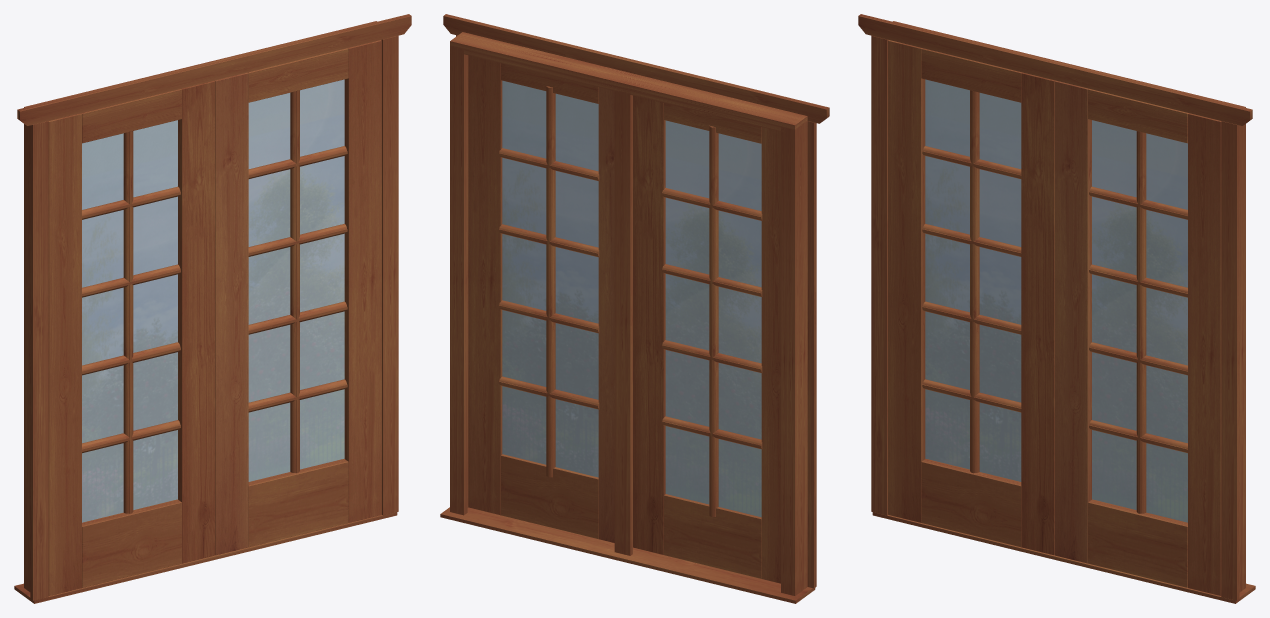
The picture shows the model from 3 angles, left to right: view 1: azimuth 30°, elevation 25°; view 2: azimuth 150°, elevation 25°; view 3: azimuth 330°, elevation 25°; orthographic projection. The views are drawn at different scales.
Parts seen in each view (by area): view 1: glass001, glass, door_right, door_right001, door_left, door_left001, trim_left, trim_right, trim_top, door_bottom001, door_bottom, muttin001 (+14 smaller); view 2: glass001, glass, door_right001, door_right, box_left, door_left, astragal, door_left001, box_top, door_bottom001, door_bottom, threshold (+18 smaller); view 3: glass, glass001, door_left001, door_left, door_right, door_right001, trim_right, trim_left, trim_top, door_bottom, door_bottom001, muttin009 (+14 smaller).
Boxes of the visible parts, x1=… form: glass001: x1=248, y1=79, x2=344, y2=481; glass: x1=82, y1=120, x2=177, y2=522; door_right: x1=178, y1=80, x2=215, y2=563; door_right001: x1=344, y1=40, x2=381, y2=522; door_left: x1=48, y1=113, x2=81, y2=595; door_left001: x1=215, y1=72, x2=248, y2=555; trim_left: x1=30, y1=121, x2=48, y2=600; trim_right: x1=381, y1=35, x2=398, y2=515; trim_top: x1=17, y1=14, x2=411, y2=125; door_bottom001: x1=248, y1=459, x2=348, y2=547; door_bottom: x1=82, y1=499, x2=181, y2=587; muttin001: x1=123, y1=131, x2=133, y2=513; glass001: x1=502, y1=80, x2=598, y2=477; glass: x1=665, y1=120, x2=761, y2=517; door_right001: x1=468, y1=55, x2=502, y2=515; door_right: x1=633, y1=95, x2=665, y2=554; box_left: x1=785, y1=121, x2=807, y2=595; door_left: x1=761, y1=127, x2=780, y2=583; astragal: x1=614, y1=90, x2=632, y2=555; door_left001: x1=598, y1=87, x2=614, y2=542; box_top: x1=450, y1=32, x2=807, y2=129; door_bottom001: x1=501, y1=454, x2=598, y2=538; door_bottom: x1=664, y1=494, x2=761, y2=578; threshold: x1=440, y1=507, x2=815, y2=603; glass: x1=925, y1=79, x2=1021, y2=481; glass001: x1=1092, y1=120, x2=1187, y2=522; door_left001: x1=1054, y1=80, x2=1091, y2=563; door_left: x1=888, y1=40, x2=925, y2=522; door_right: x1=1021, y1=72, x2=1054, y2=555; door_right001: x1=1188, y1=113, x2=1221, y2=595; trim_right: x1=1221, y1=121, x2=1239, y2=600; trim_left: x1=871, y1=35, x2=888, y2=515; trim_top: x1=858, y1=14, x2=1252, y2=125; door_bottom: x1=921, y1=459, x2=1021, y2=547; door_bottom001: x1=1088, y1=499, x2=1187, y2=587; muttin009: x1=1136, y1=131, x2=1146, y2=513.
Bounding box in the file's own units: 61.81 × 74.75 × 5.5.
Materials: 9 (9 with a texture image).
